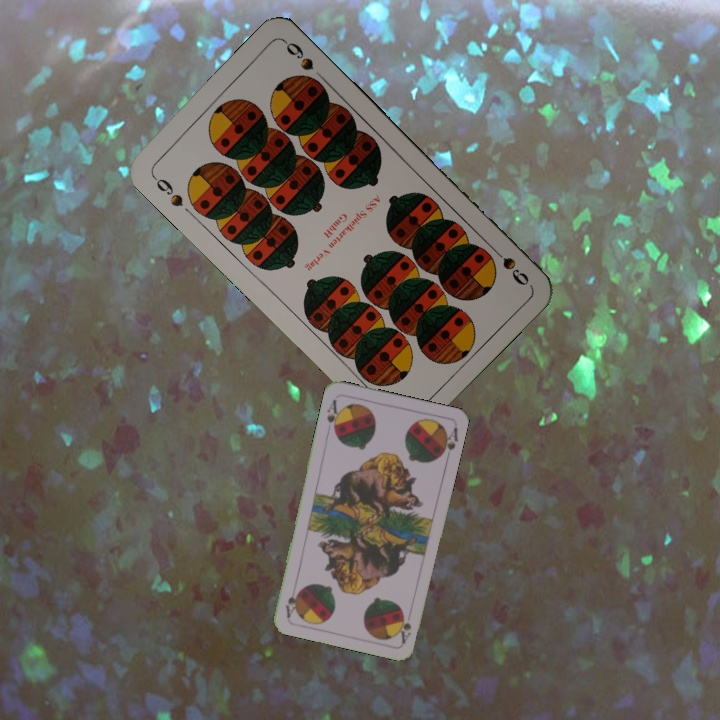S9: (486, 241, 532, 289), (148, 171, 186, 210)
SA: (323, 395, 343, 436), (395, 605, 414, 646)
